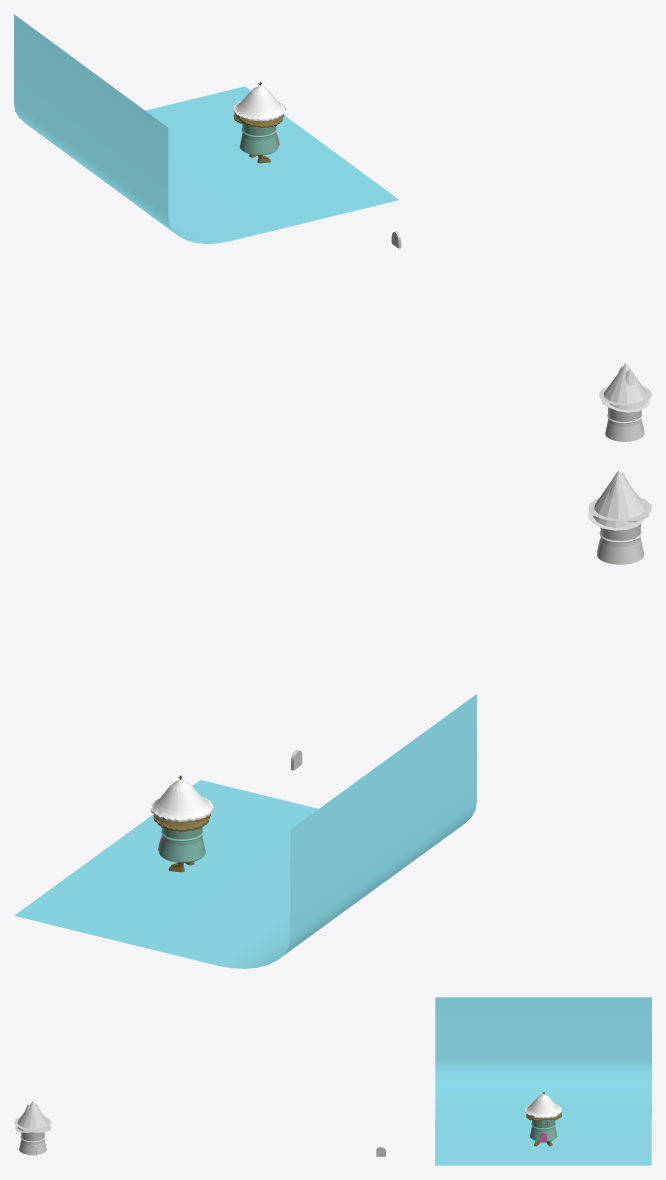
The model's file is munchkinsmodelfixed.glb.
3 renders of one model, top to bottom at view 1: azimuth 30°, elevation 25°; view 2: azimuth 150°, elevation 25°; view 3: azimuth 270°, elevation 25°, orthographic. The views are drawn at different scales.
Parts seen in each view (by area): view 1: Plane.006, Cone.006, Cone, Cylinder, Cylinder.008; view 2: Plane.006, Cone.006, Cone, Cylinder, Cylinder.008; view 3: Plane.006, Cone, Cone.006, Cylinder, Cylinder.008.
Boxes of the visible parts, bbox=[...] form: Plane.006: bbox=[14, 14, 398, 243]; Cone.006: bbox=[233, 85, 286, 121]; Cone: bbox=[599, 363, 651, 405]; Cylinder: bbox=[605, 407, 644, 441]; Cylinder.008: bbox=[239, 123, 278, 155]; Plane.006: bbox=[14, 694, 476, 968]; Cone.006: bbox=[150, 779, 213, 822]; Cone: bbox=[588, 470, 651, 521]; Cylinder: bbox=[597, 520, 643, 564]; Cylinder.008: bbox=[159, 827, 205, 862]; Plane.006: bbox=[435, 997, 651, 1165]; Cone: bbox=[14, 1101, 51, 1130]; Cone.006: bbox=[525, 1094, 561, 1118]; Cylinder: bbox=[19, 1132, 46, 1155]; Cylinder.008: bbox=[530, 1119, 557, 1141].
Size of what is drawn, in the model's own units: 31.81 by 17.85 by 109.
